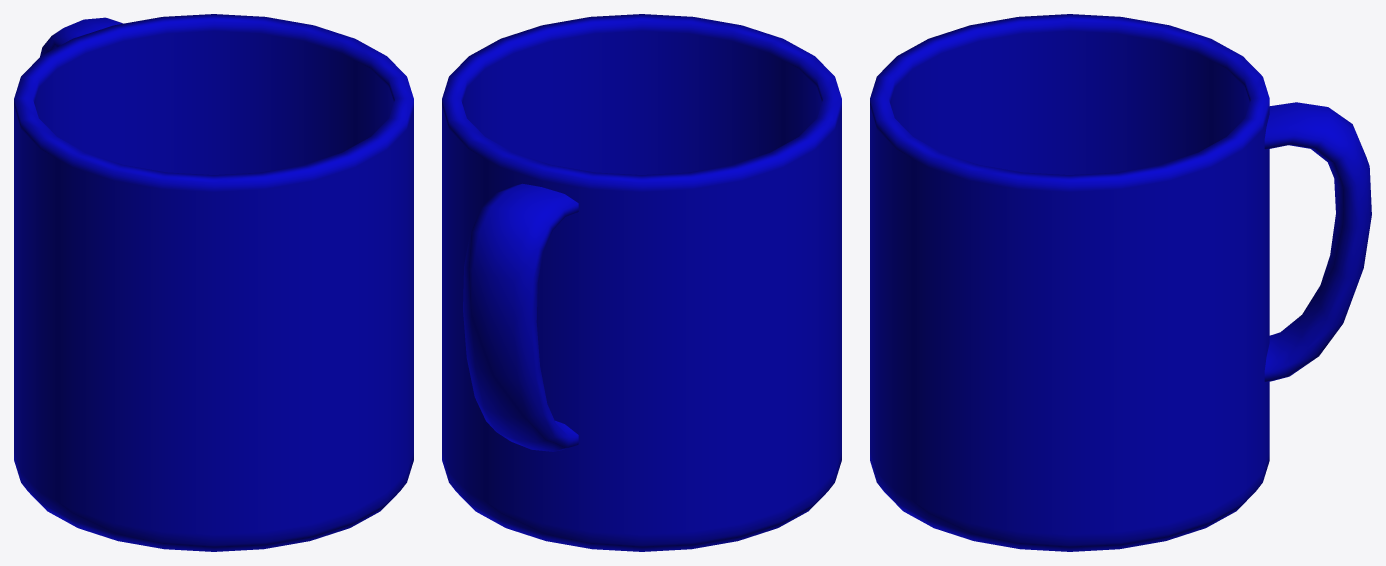
The picture shows the model from 3 angles, left to right: view 1: azimuth 30°, elevation 25°; view 2: azimuth 150°, elevation 25°; view 3: azimuth 270°, elevation 25°; orthographic projection.
Visible parts, largest first — view 1: mug; view 2: mug; view 3: mug.
Part boxes in pixels (<box>): mug: <box>14,14,413,551</box>; mug: <box>442,14,841,551</box>; mug: <box>870,14,1371,551</box>.
Size of the model in its own units: 0.0957 by 0.0984 by 0.1202.
